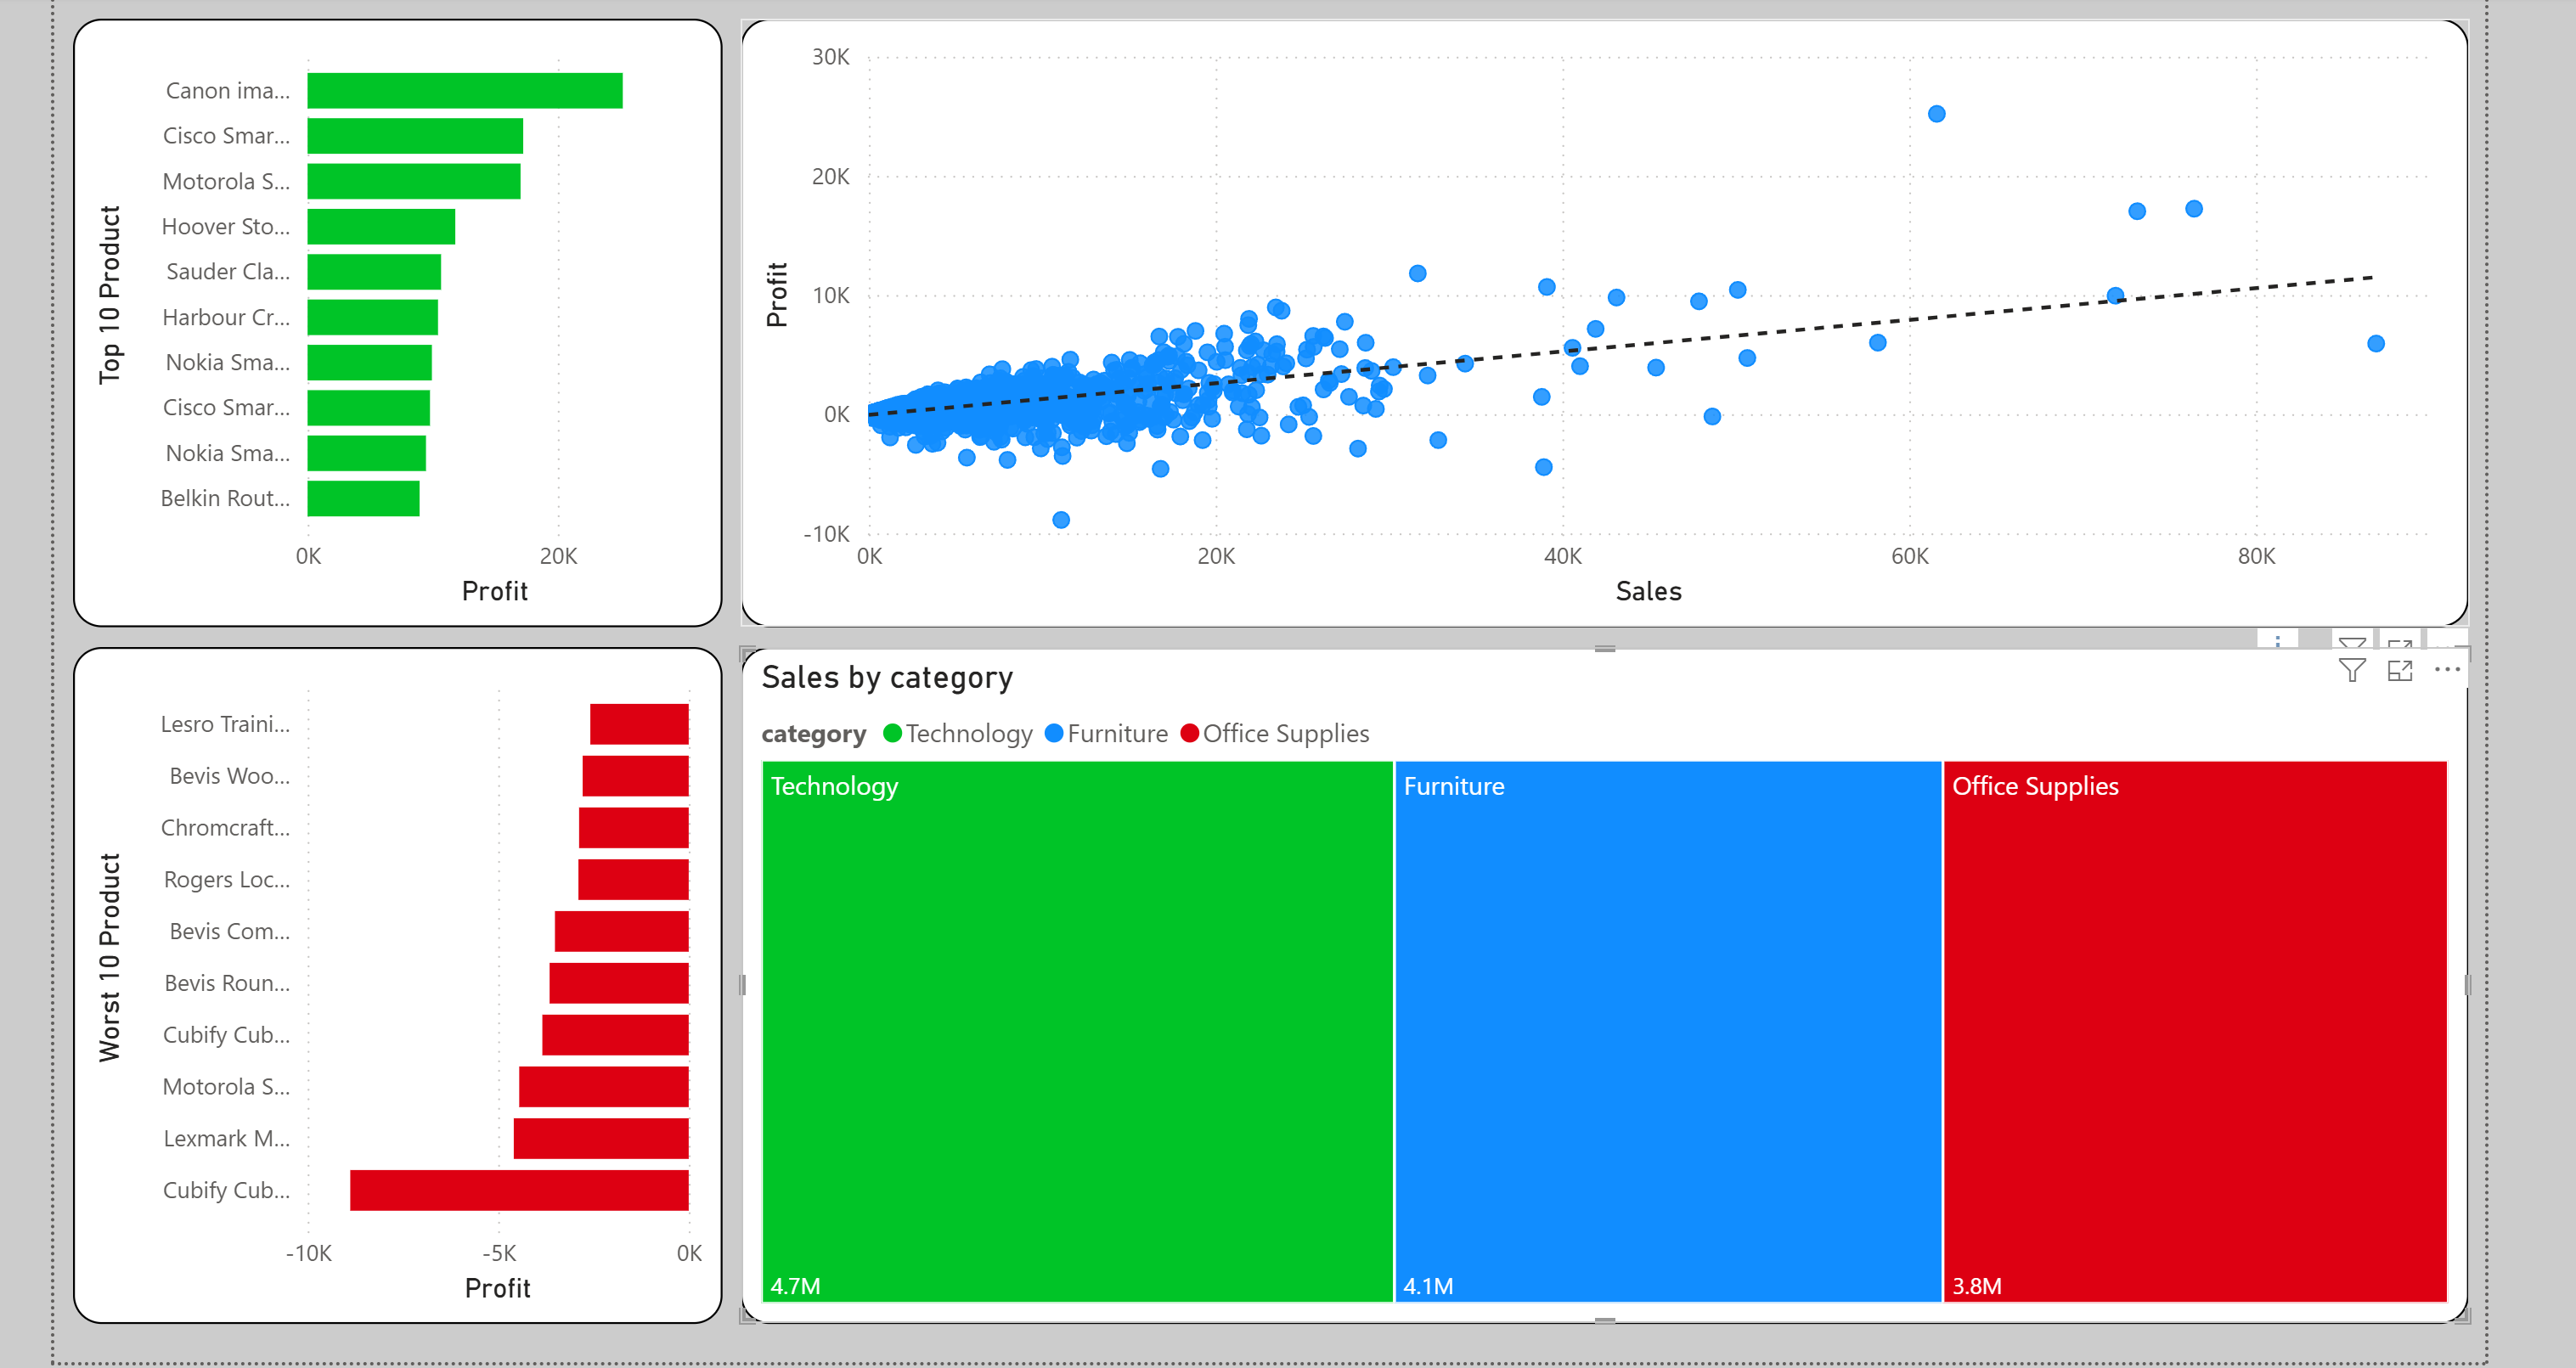

The page's visual inventory and layout, read from the dashboard file:
{"tool":"powerbi","page":{"name":"Product Analysis","canvas":[1280,720],"ordinal":2},"visuals":[{"type":"clusteredBarChart","fields":{"Category":["SuperStoreOrders - SuperStoreOr.product_name"],"Y":["Sum(SuperStoreOrders - SuperStoreOr.profit)"]},"box":[10.3,12.3,342.1,320.5],"z":0},{"type":"clusteredBarChart","fields":{"Category":["SuperStoreOrders - SuperStoreOr.product_name"],"Y":["Sum(SuperStoreOrders - SuperStoreOr.profit)"]},"box":[10,343.1,342.2,356.7],"z":1000},{"type":"scatterChart","fields":{"X":["Sum(SuperStoreOrders - SuperStoreOr.sales)"],"Y":["Sum(SuperStoreOrders - SuperStoreOr.profit)"],"Category":["SuperStoreOrders - SuperStoreOr.product_name"]},"box":[361.6,12.3,910.2,320.5],"z":1001},{"type":"treemap","fields":{"Group":["SuperStoreOrders - SuperStoreOr.category"],"Values":["Sum(SuperStoreOrders - SuperStoreOr.sales)"]},"box":[361.6,343.1,910.2,356.5],"z":1002}]}

Visuals, with their boxes on the page's 1280x720 design canvas (x1, y1, x2, y2). These are canvas units, not pixel positions in the 2576x1368 screenshot, which may show the page scaled, cropped or inside an application window:
clusteredBarChart - SuperStoreOrders - SuperStoreOr.product_name x Sum(SuperStoreOrders - SuperStoreOr.profit): box(10, 12, 352, 333)
clusteredBarChart - SuperStoreOrders - SuperStoreOr.product_name x Sum(SuperStoreOrders - SuperStoreOr.profit): box(10, 343, 352, 700)
scatterChart - Sum(SuperStoreOrders - SuperStoreOr.sales) x Sum(SuperStoreOrders - SuperStoreOr.profit): box(362, 12, 1272, 333)
treemap - SuperStoreOrders - SuperStoreOr.category x Sum(SuperStoreOrders - SuperStoreOr.sales): box(362, 343, 1272, 700)
